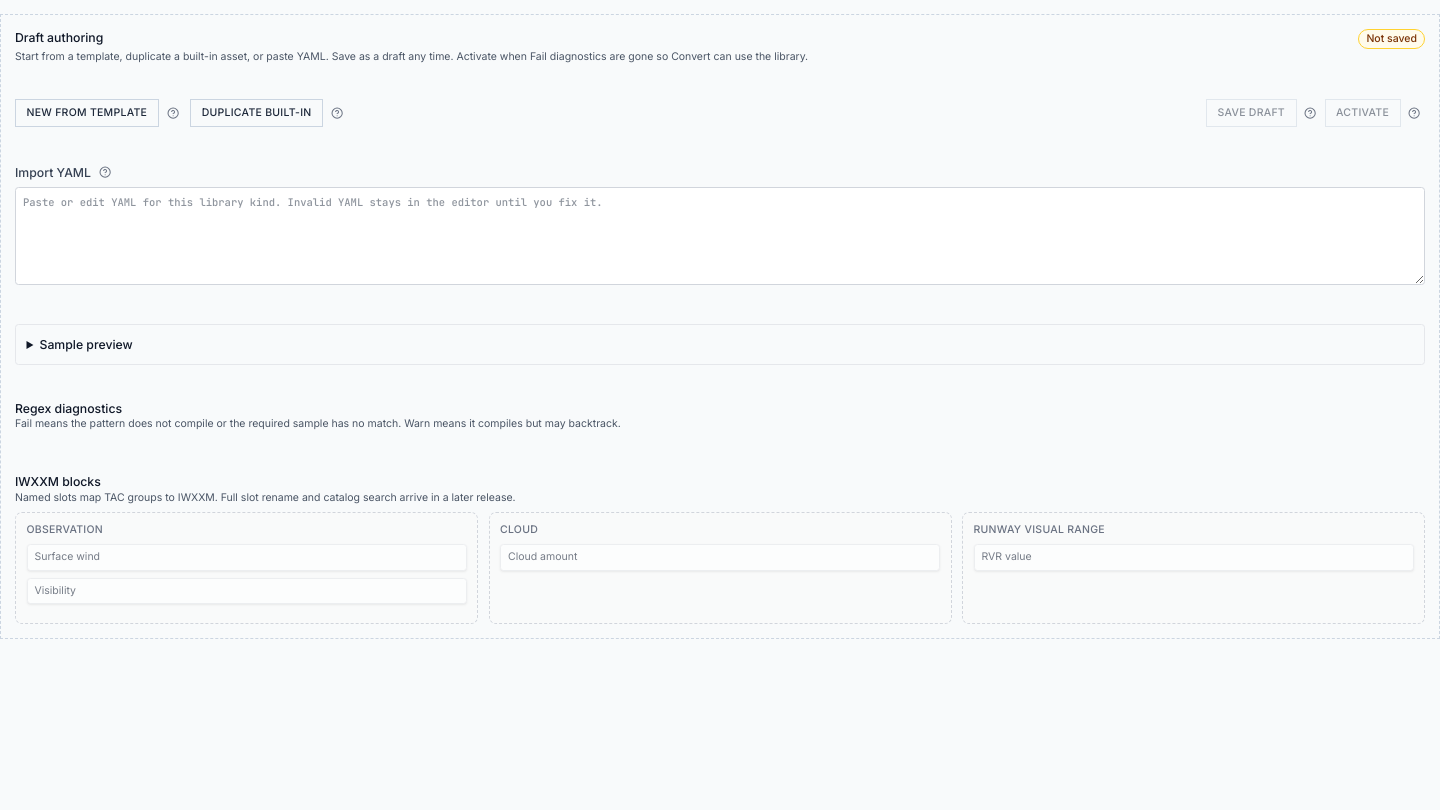
LibraryDraftShell › loads template yaml and saves draft locally
This screenshot has width=1440, height=810.
Click the button with test id "library-draft-new-template-tac_validation".
click(87, 113)  # box [15, 99, 159, 127]
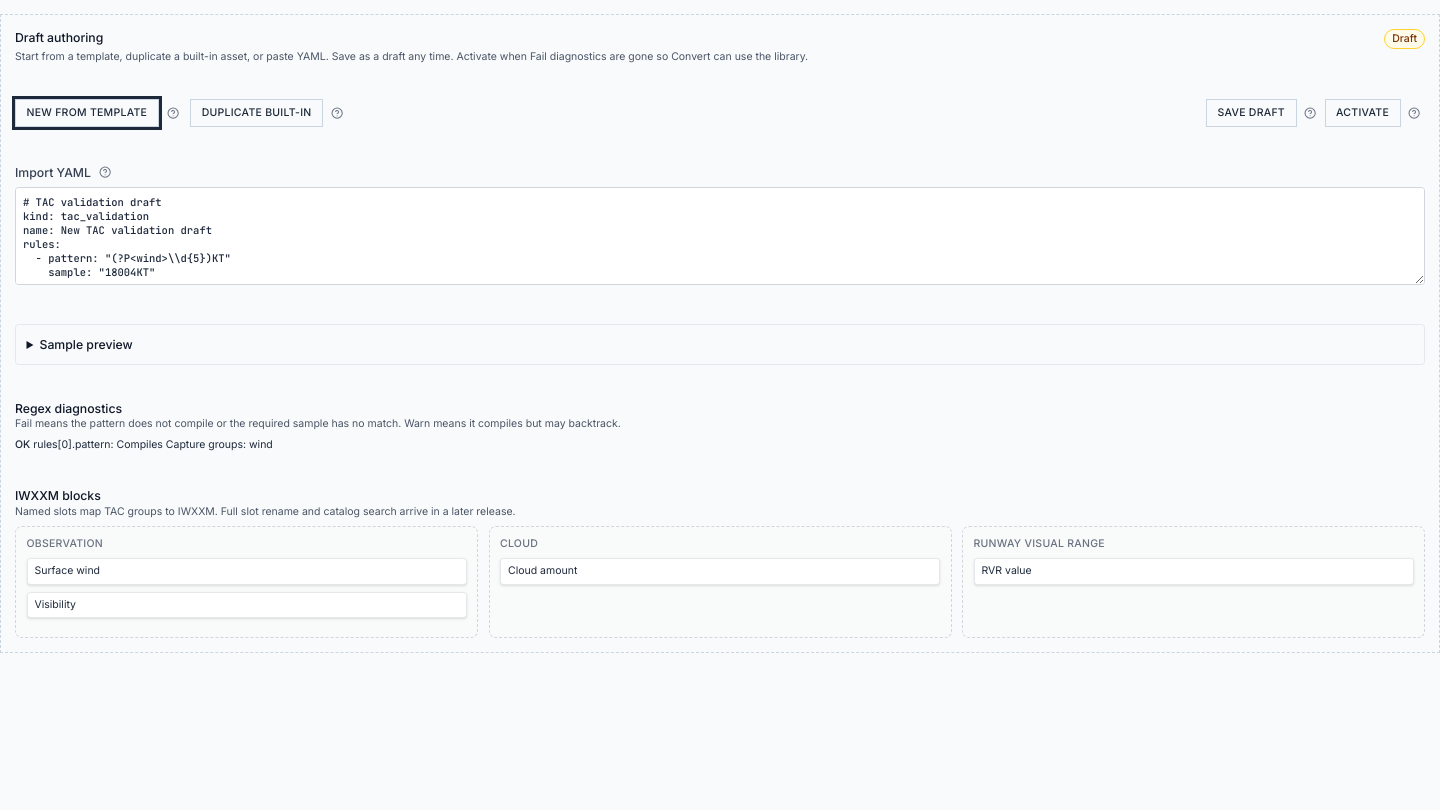
Expected: the text with test id "library-draft-status-tac_validation" reads "Draft", [1392, 32, 1417, 45]
Click the button with test id "library-draft-save-tac_validation".
click(1251, 113)  # box [1206, 99, 1296, 127]
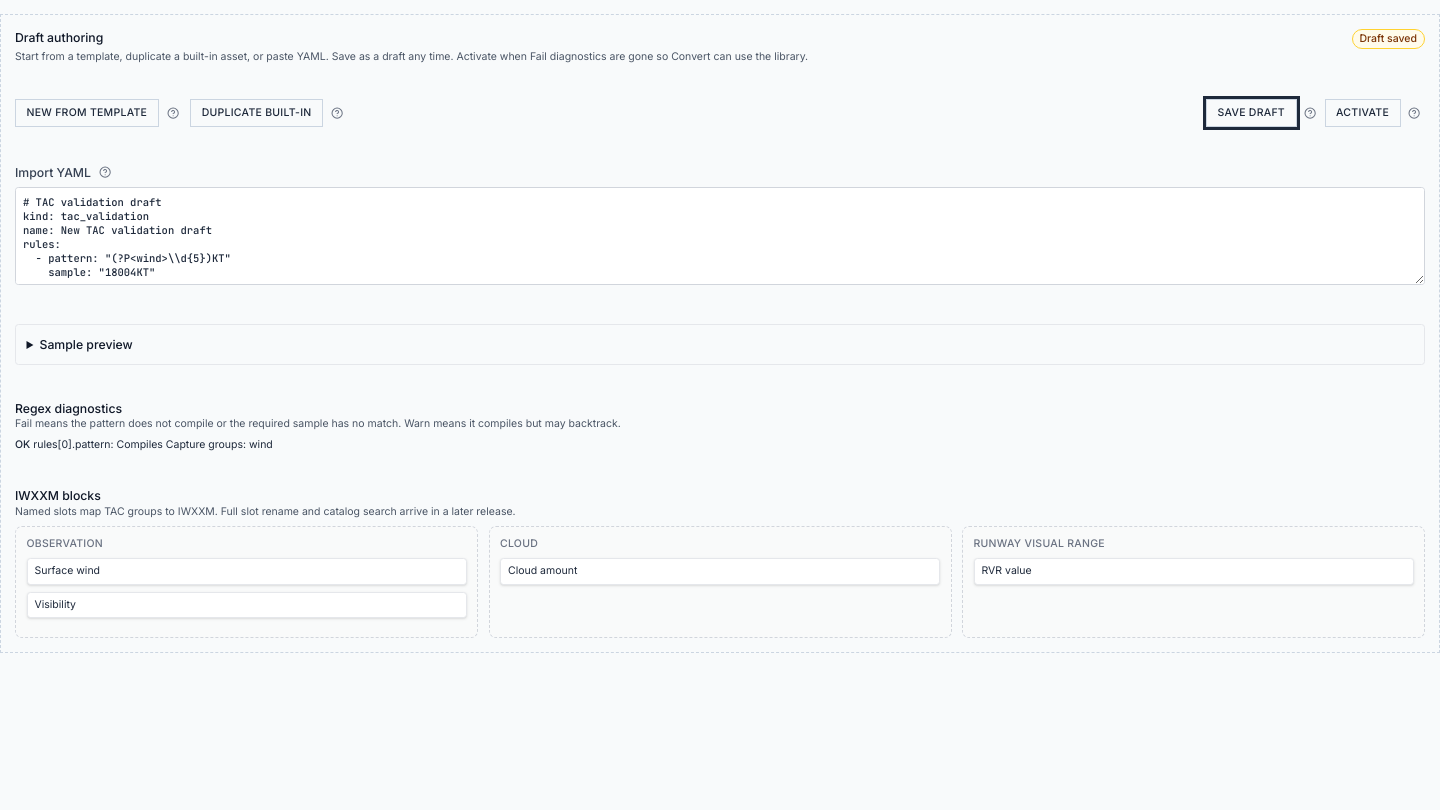
Expected: the button with test id "library-draft-activate-tac_validation" is enabled
Expected: the text with test id "library-draft-status-tac_validation" reads "Draft saved", [1360, 32, 1417, 45]
Click the button with test id "library-draft-activate-tac_validation".
click(1362, 113)  # box [1324, 99, 1400, 127]
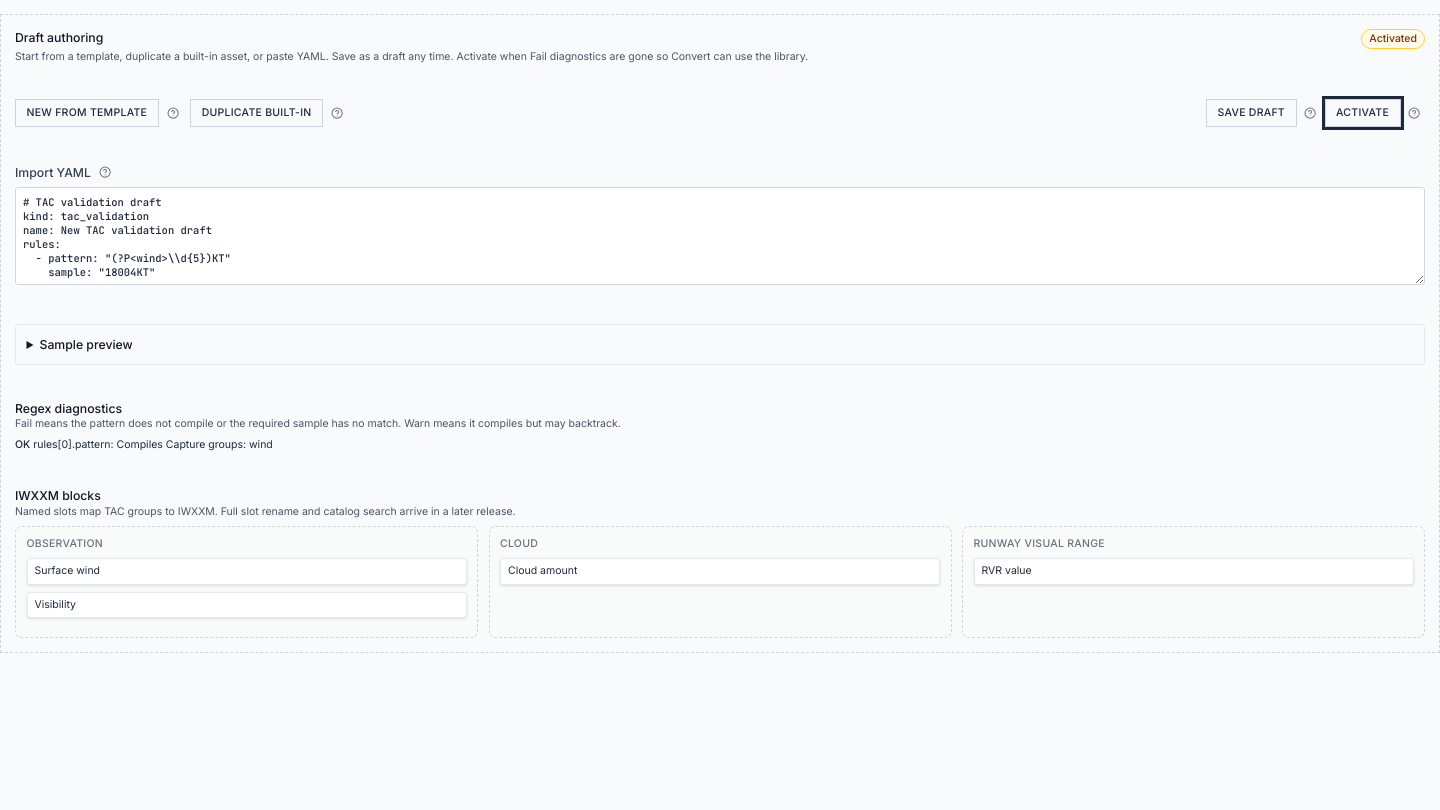
Expected: the text with test id "library-draft-status-tac_validation" reads "Activated", [1369, 32, 1417, 45]
